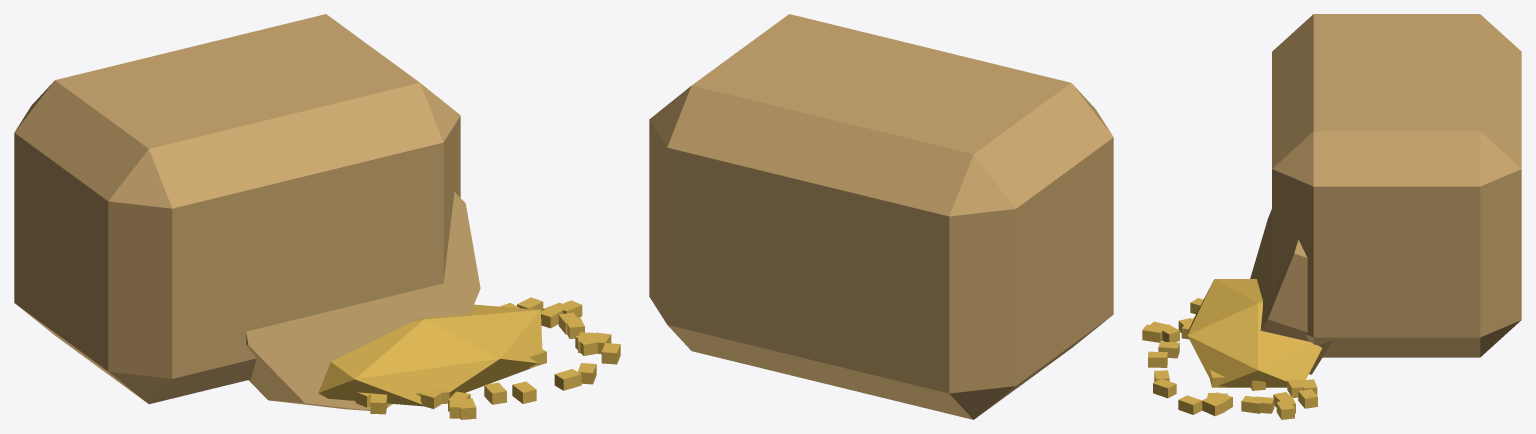
The model's file is grain_sack_open.glb.
3 views of the same model, side by side, from view 1: azimuth 30°, elevation 25°; view 2: azimuth 150°, elevation 25°; view 3: azimuth 270°, elevation 25° (orthographic). The views are drawn at different scales.
Parts seen in each view (by area): view 1: grain_sack_open; view 2: grain_sack_open; view 3: grain_sack_open.
Boxes of the visible parts, x1,y1,x2,y2 form: grain_sack_open: (14, 14, 620, 419); grain_sack_open: (649, 14, 1113, 419); grain_sack_open: (1142, 14, 1521, 419).
Size of the model in its own units: 0.3362 by 0.2131 by 0.2735.
